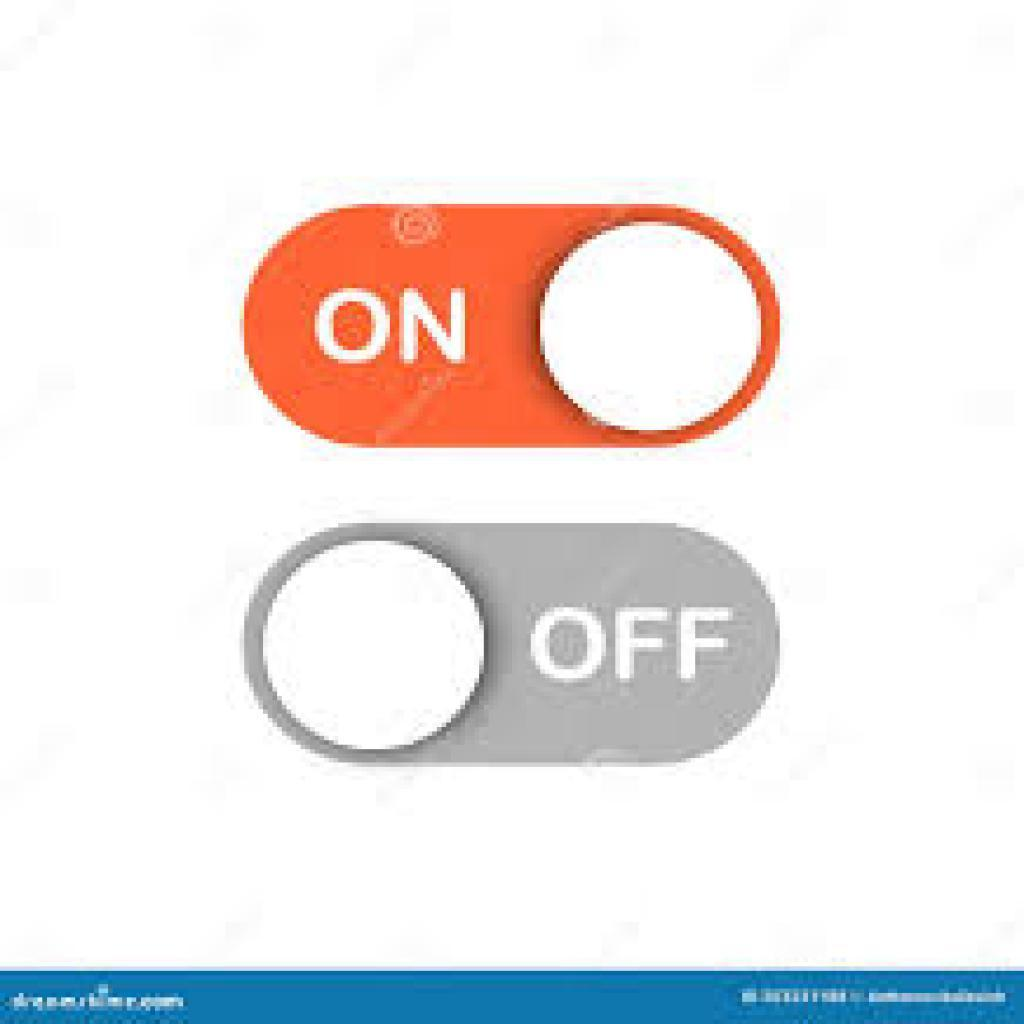switch: (239, 520, 780, 769), (243, 207, 784, 451)
